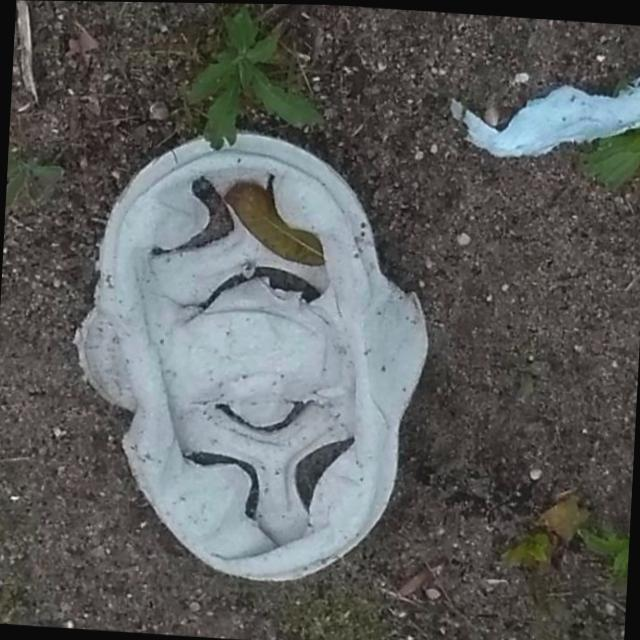Paper: (60, 116, 442, 597)
